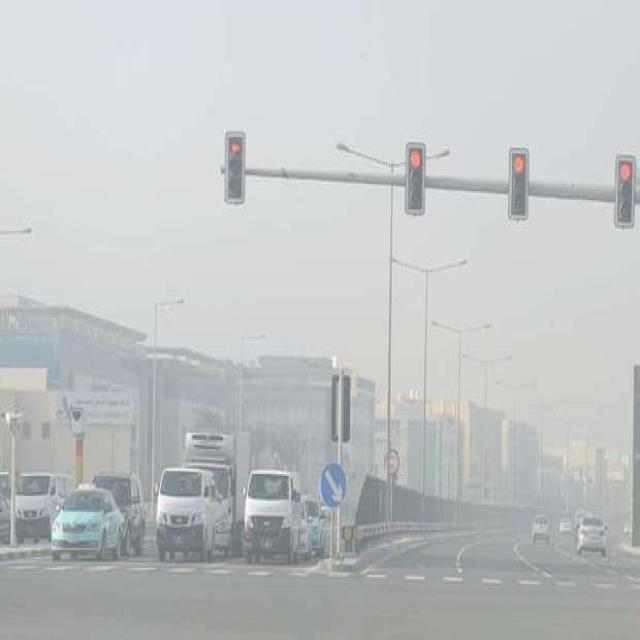moderate_traffic: (5, 395, 327, 640)
no-low traffic: (420, 451, 640, 638)
